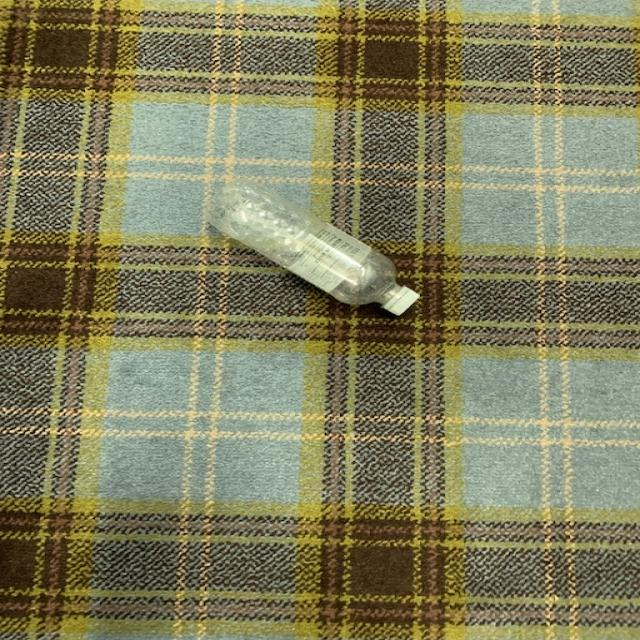Waste: (205, 179, 420, 315)
